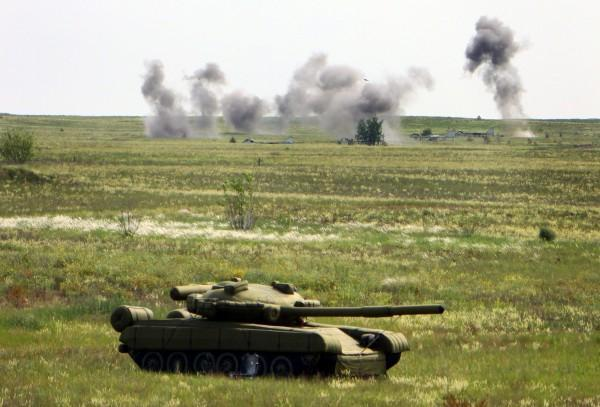tank: (110, 275, 445, 381)
